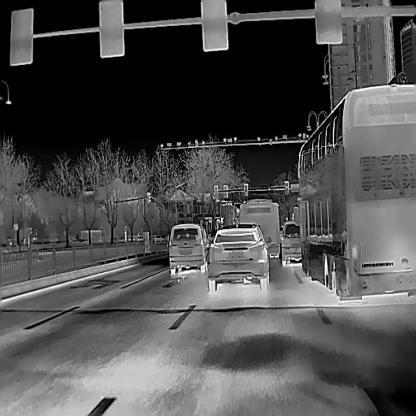car: (300, 83, 415, 301), (208, 225, 269, 293), (239, 199, 278, 259), (167, 222, 207, 275), (281, 218, 302, 264)
